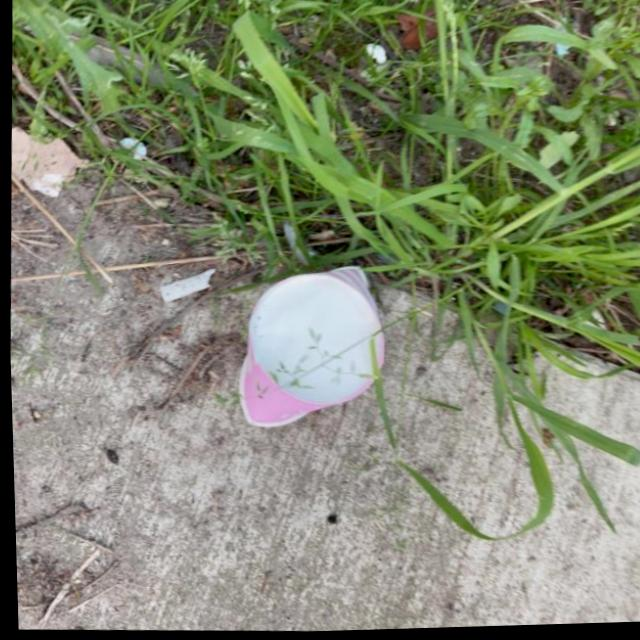Paper: (228, 262, 394, 436)
